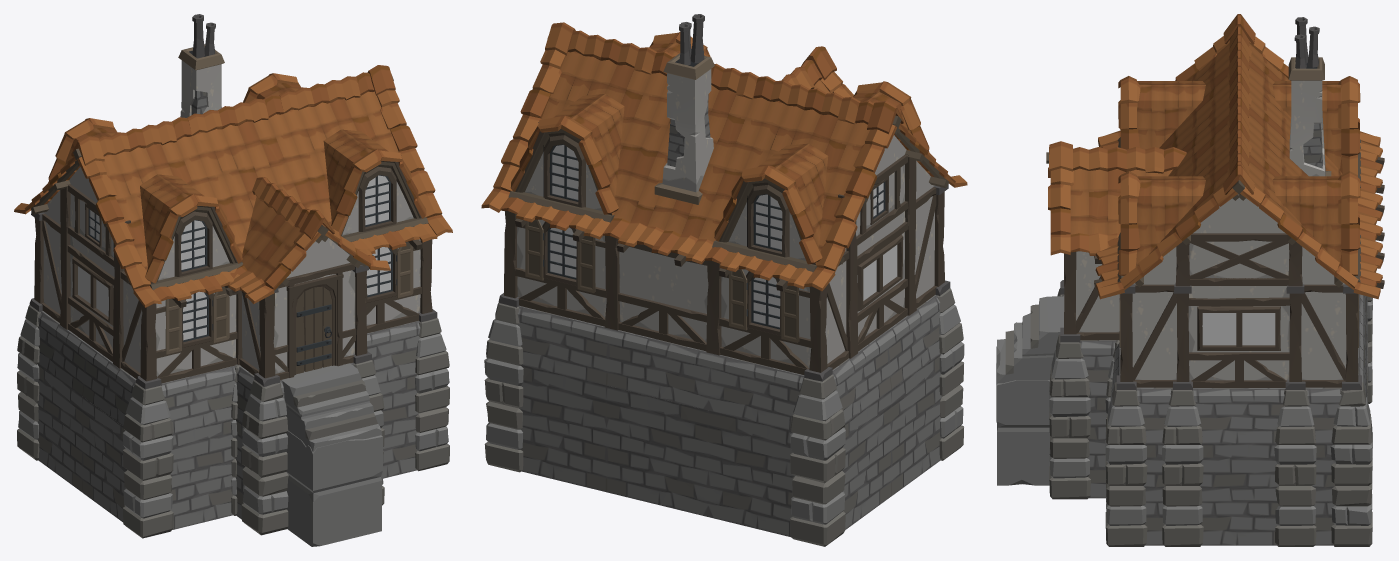
File: SM_Bld_Preset_House_09_A_Optimized.fbx
The picture shows the model from 3 angles, left to right: view 1: azimuth 30°, elevation 25°; view 2: azimuth 150°, elevation 25°; view 3: azimuth 270°, elevation 25°; orthographic projection. The views are drawn at different scales.
Parts seen in each view (by area): view 1: SM_Bld_Preset_House_09_A_Optimized, SM_Bld_Preset_House_09_A_Glass_Optimized; view 2: SM_Bld_Preset_House_09_A_Optimized, SM_Bld_Preset_House_09_A_Glass_Optimized; view 3: SM_Bld_Preset_House_09_A_Optimized, SM_Bld_Preset_House_09_A_Glass_Optimized.
Part boxes in pixels (x1,y1,x2,y2): SM_Bld_Preset_House_09_A_Optimized: (14,14,452,546); SM_Bld_Preset_House_09_A_Glass_Optimized: (78,175,390,340); SM_Bld_Preset_House_09_A_Optimized: (481,14,967,546); SM_Bld_Preset_House_09_A_Glass_Optimized: (550,145,897,327); SM_Bld_Preset_House_09_A_Optimized: (996,14,1384,546); SM_Bld_Preset_House_09_A_Glass_Optimized: (1202,313,1275,345).
Size of the model in its own units: 856 by 1091 by 861.
